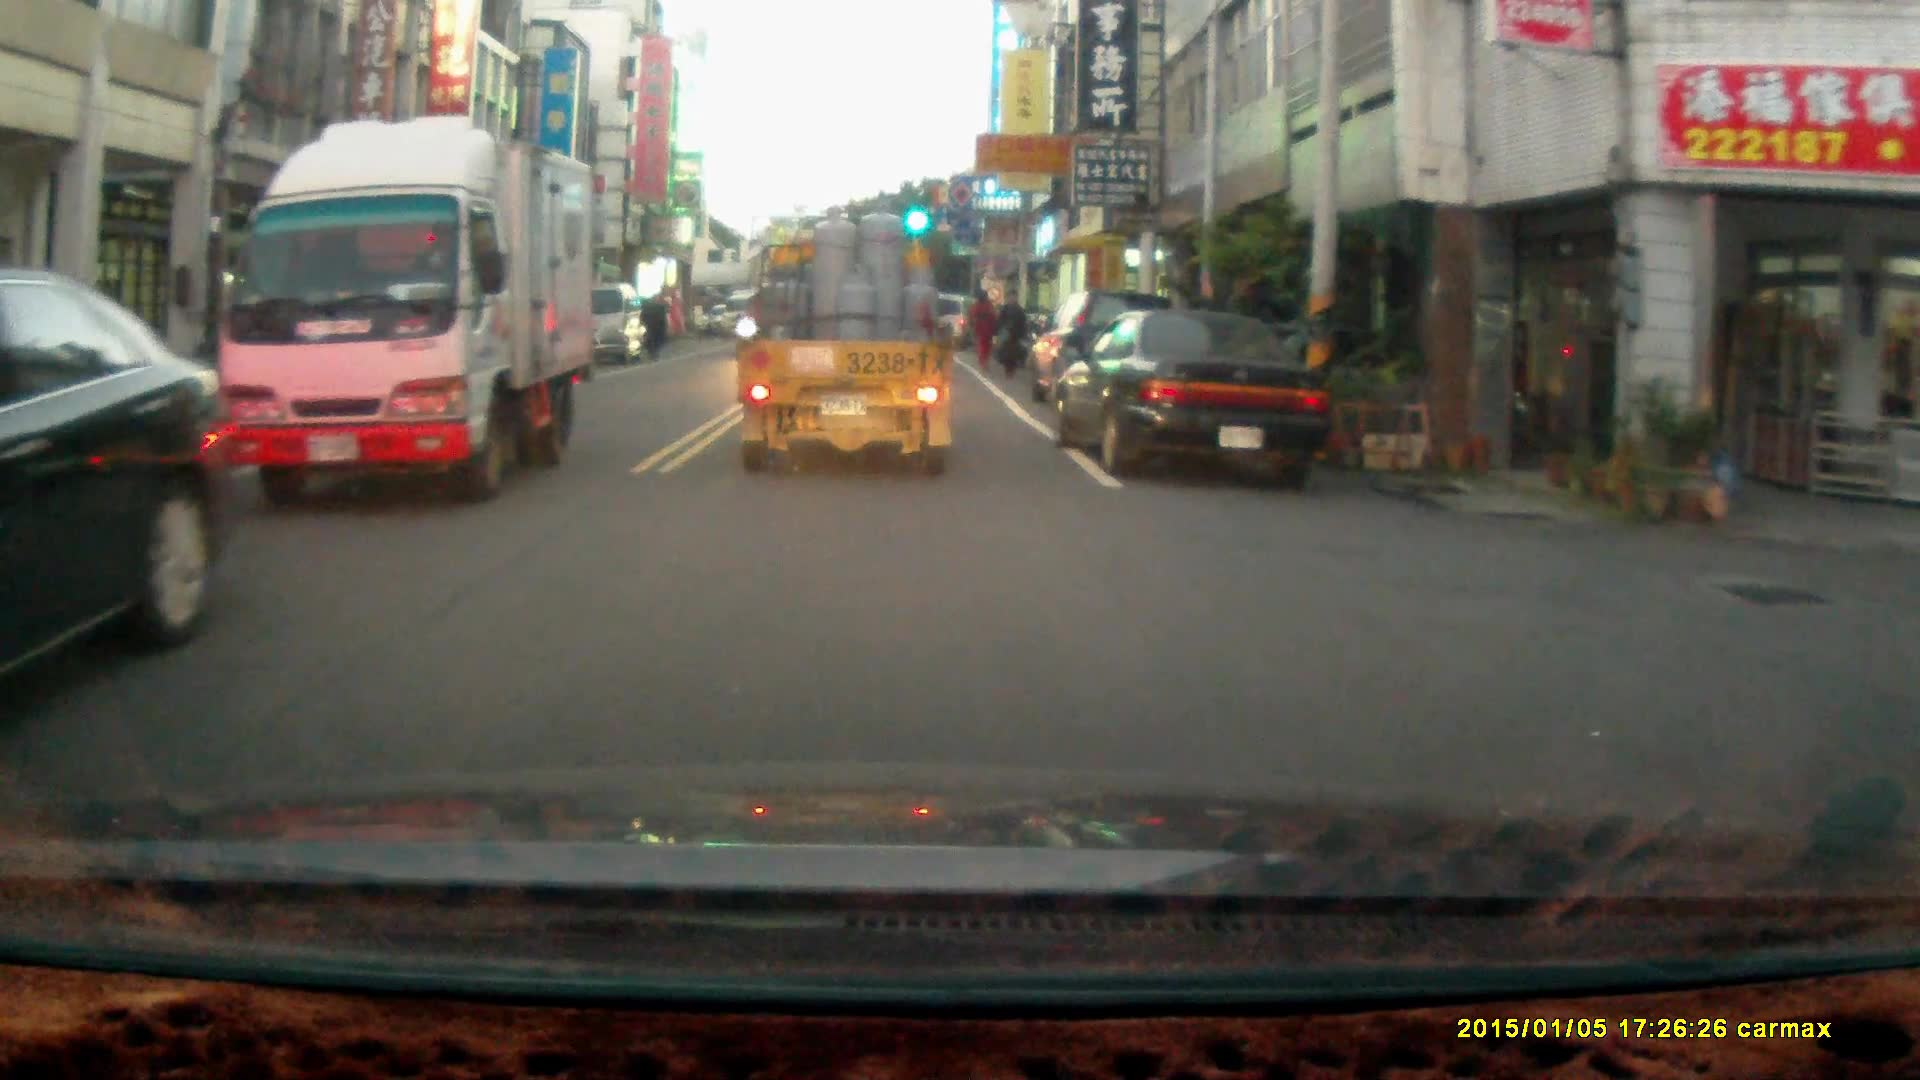pedestrian: (991, 289, 1025, 382), (963, 286, 996, 366), (636, 293, 666, 361)
vehicle: (217, 118, 598, 511), (1, 267, 239, 682), (731, 192, 963, 481), (1056, 308, 1332, 483), (581, 277, 645, 365)
